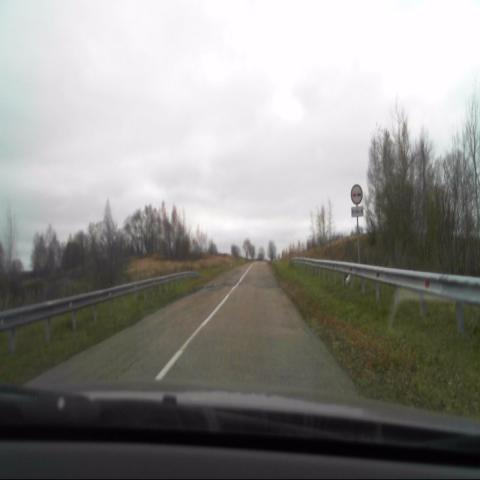3_20: (350, 183, 362, 204)
